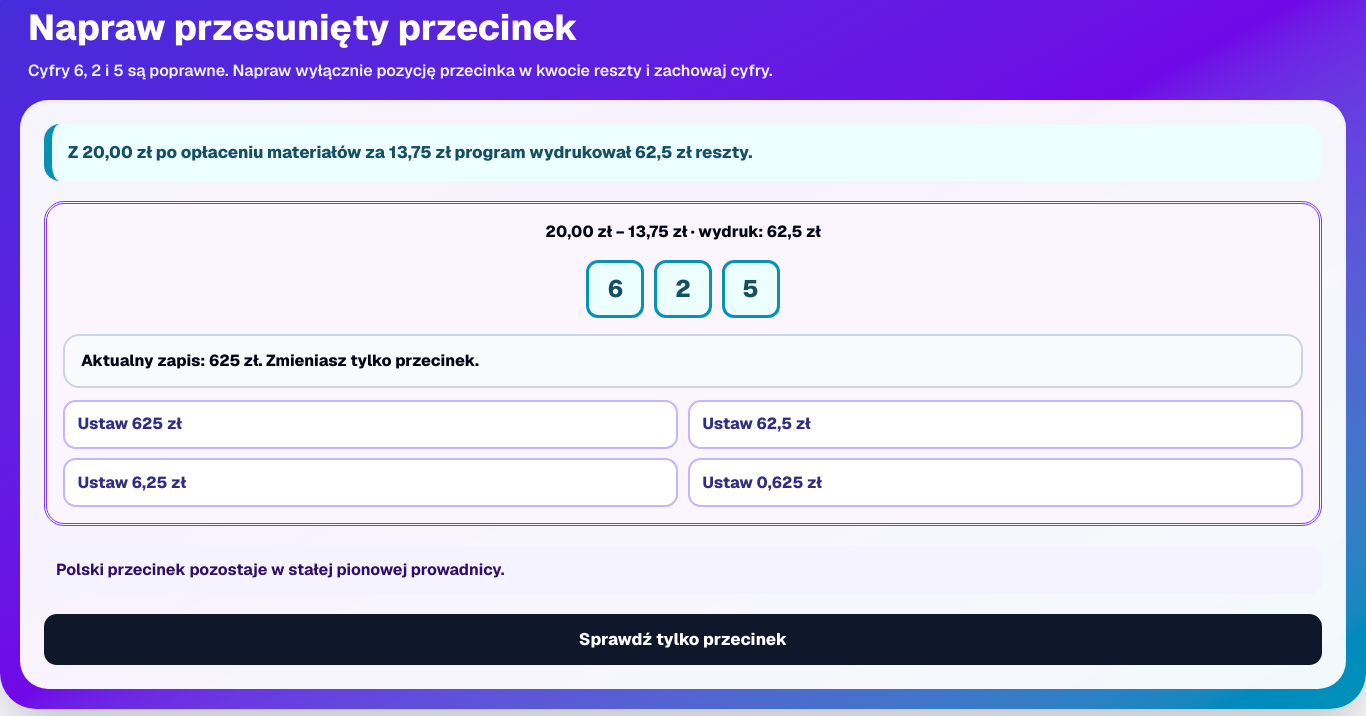
it: DecimalAddSubL2Lab przez lokalny adapter › diagnozuje tylko przecinek i zachowuje cyfry trudniejszego kontekstu
The width and height of the screenshot is (1366, 716).
Click the button "Sprawdź tylko przecinek" at (683, 639), box [44,614,1322,665]
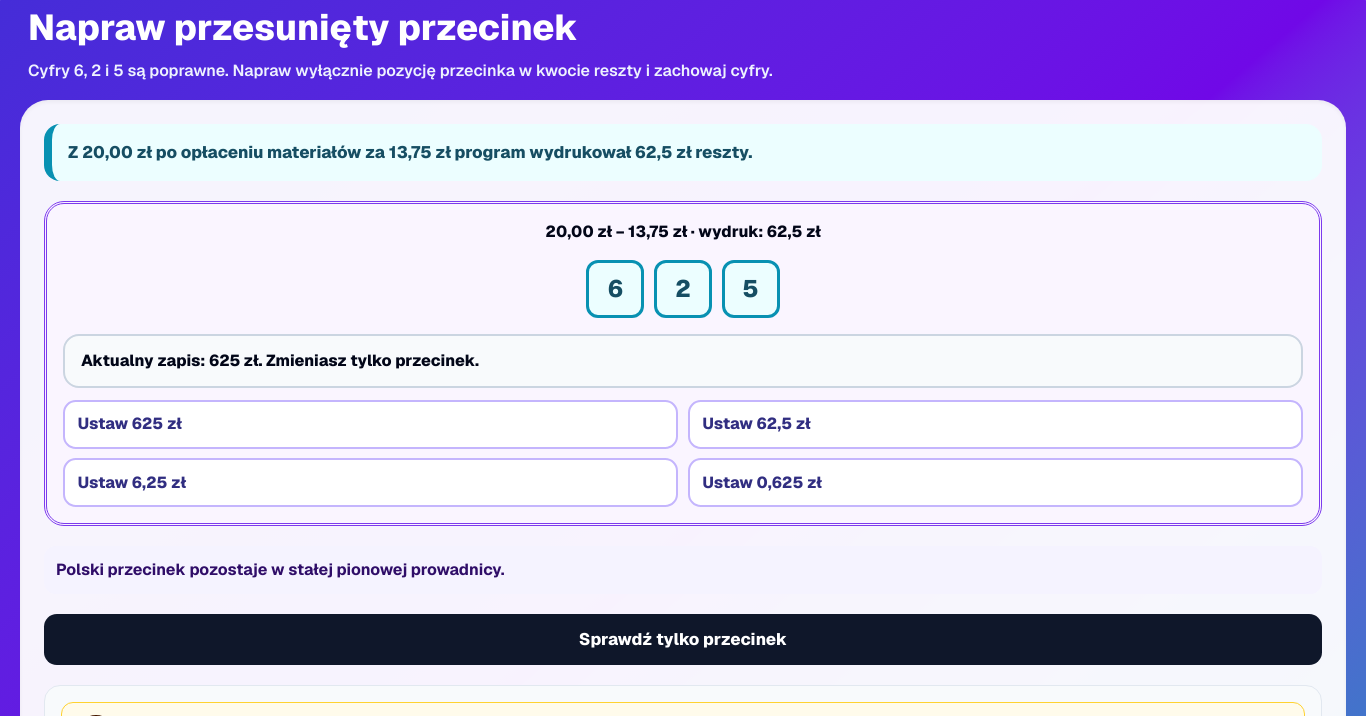
Click the button "Ustaw 6,25 zł" at (105, 482), box [63,458,678,507]
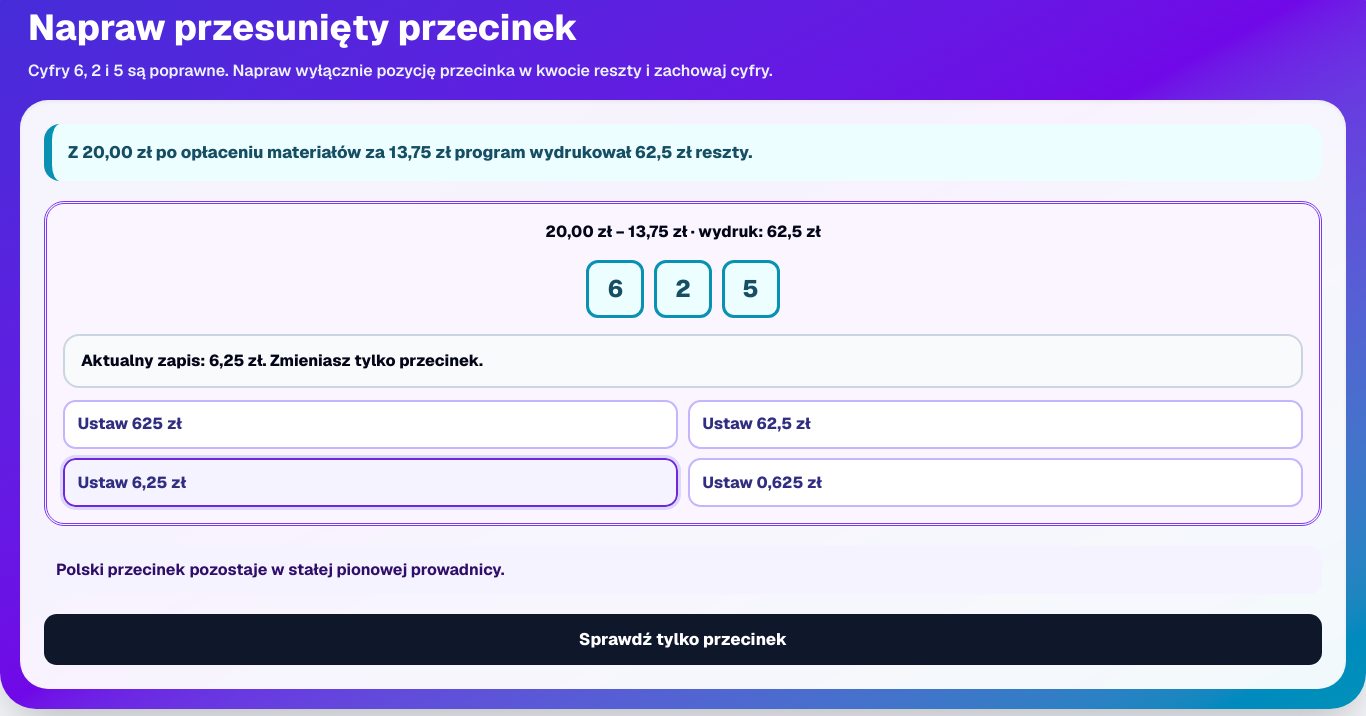
Click the button "Sprawdź tylko przecinek" at (683, 639), box [44,614,1322,665]
(page scrolled)
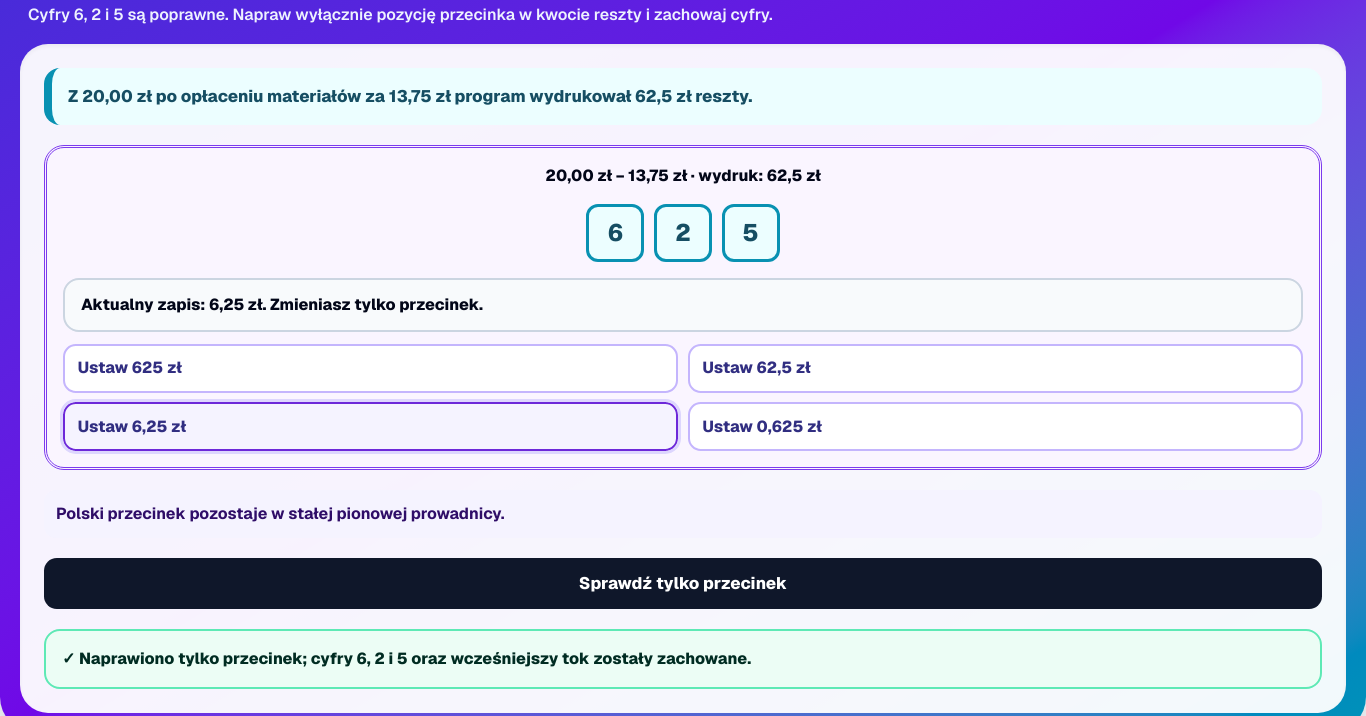
Check: the message shows "cyfry 6, 2 i 5", box [79,648,751,669]
